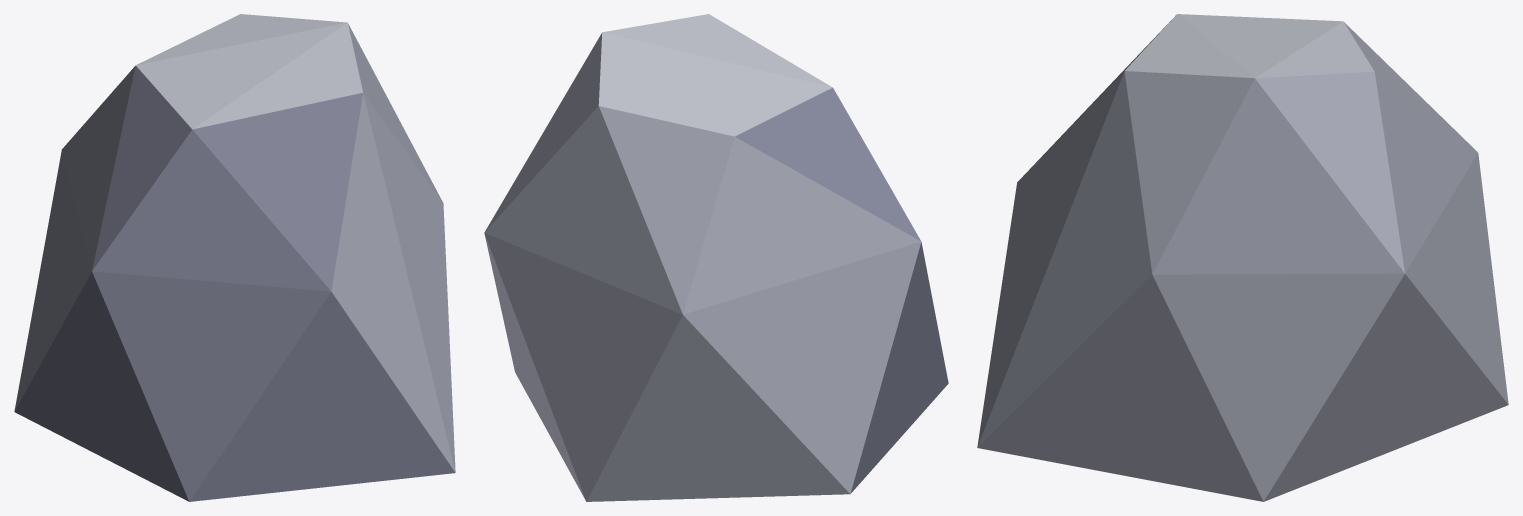
File: stone_smallI.glb
3 views of the same model, side by side, from view 1: azimuth 30°, elevation 25°; view 2: azimuth 150°, elevation 25°; view 3: azimuth 270°, elevation 25° (orthographic). The views are drawn at different scales.
Parts seen in each view (by area): view 1: stone_smallI; view 2: stone_smallI; view 3: stone_smallI.
Boxes of the visible parts, x1,y1,x2,y2 form: stone_smallI: (14,14,455,501); stone_smallI: (484,14,948,501); stone_smallI: (977,14,1508,501).
Size of the model in its own units: 0.3083 by 0.2795 by 0.3538.
Materials: 1 (1 with a texture image).
